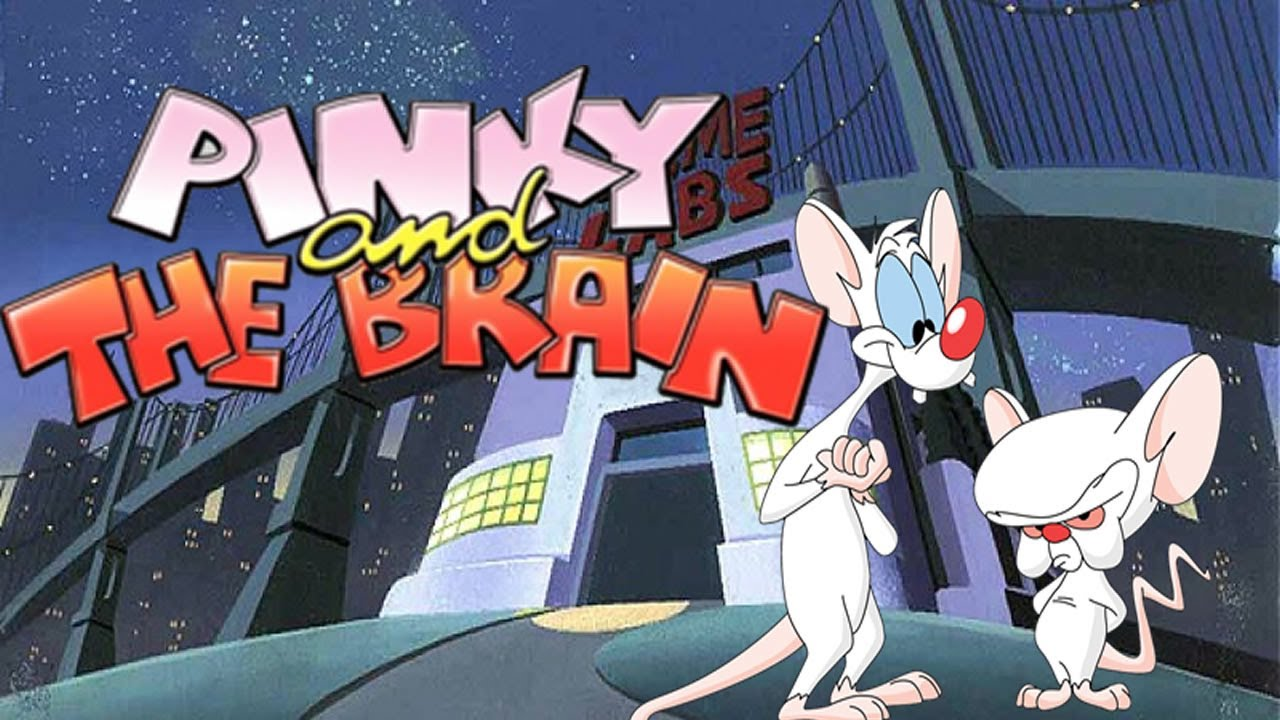cerebro: (966, 339, 1235, 720)
pink: (690, 155, 979, 720)
